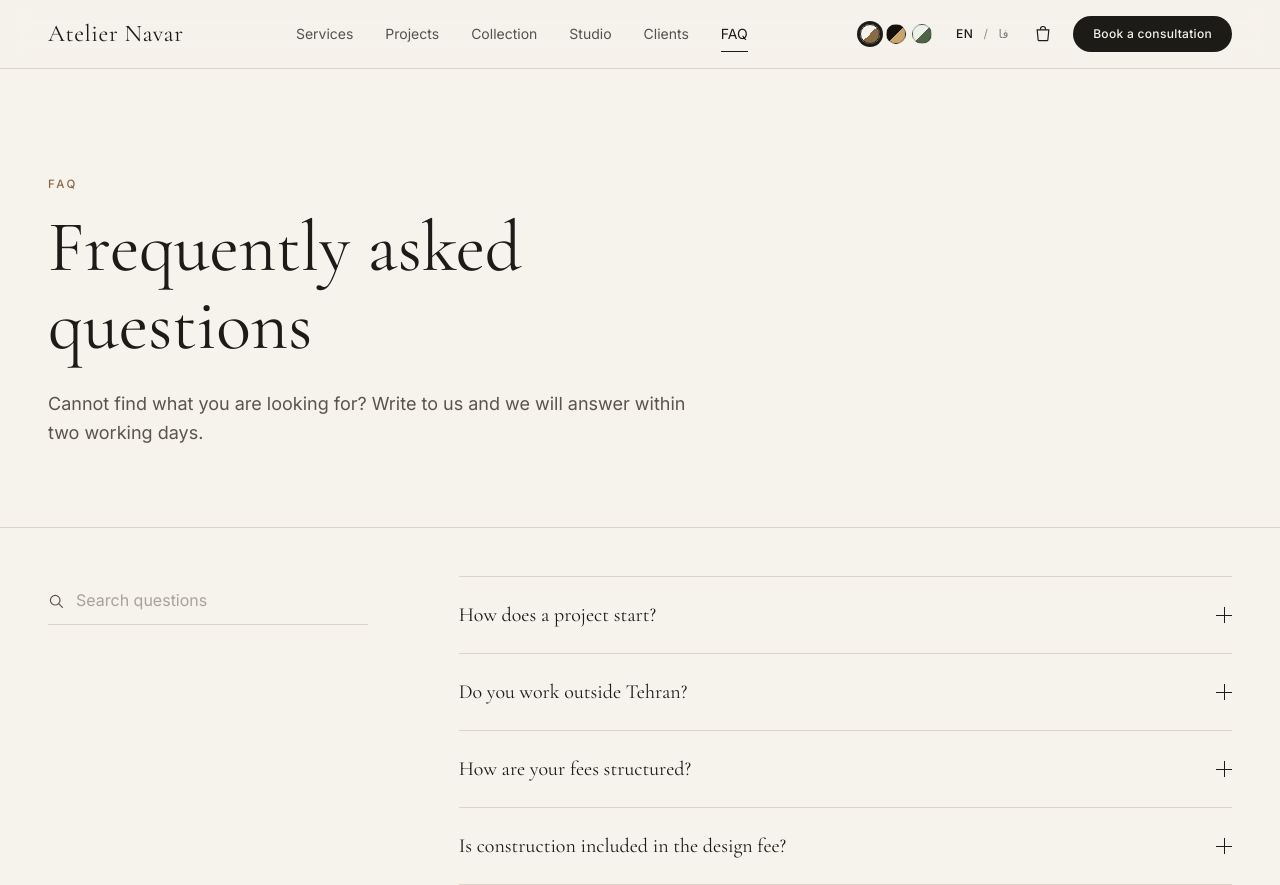
Test: public site › opens and closes FAQ items on the FAQ page, and searches them
Click the button "How does a project start?": click(557, 615) x1=459 y1=577 x2=1232 y2=653
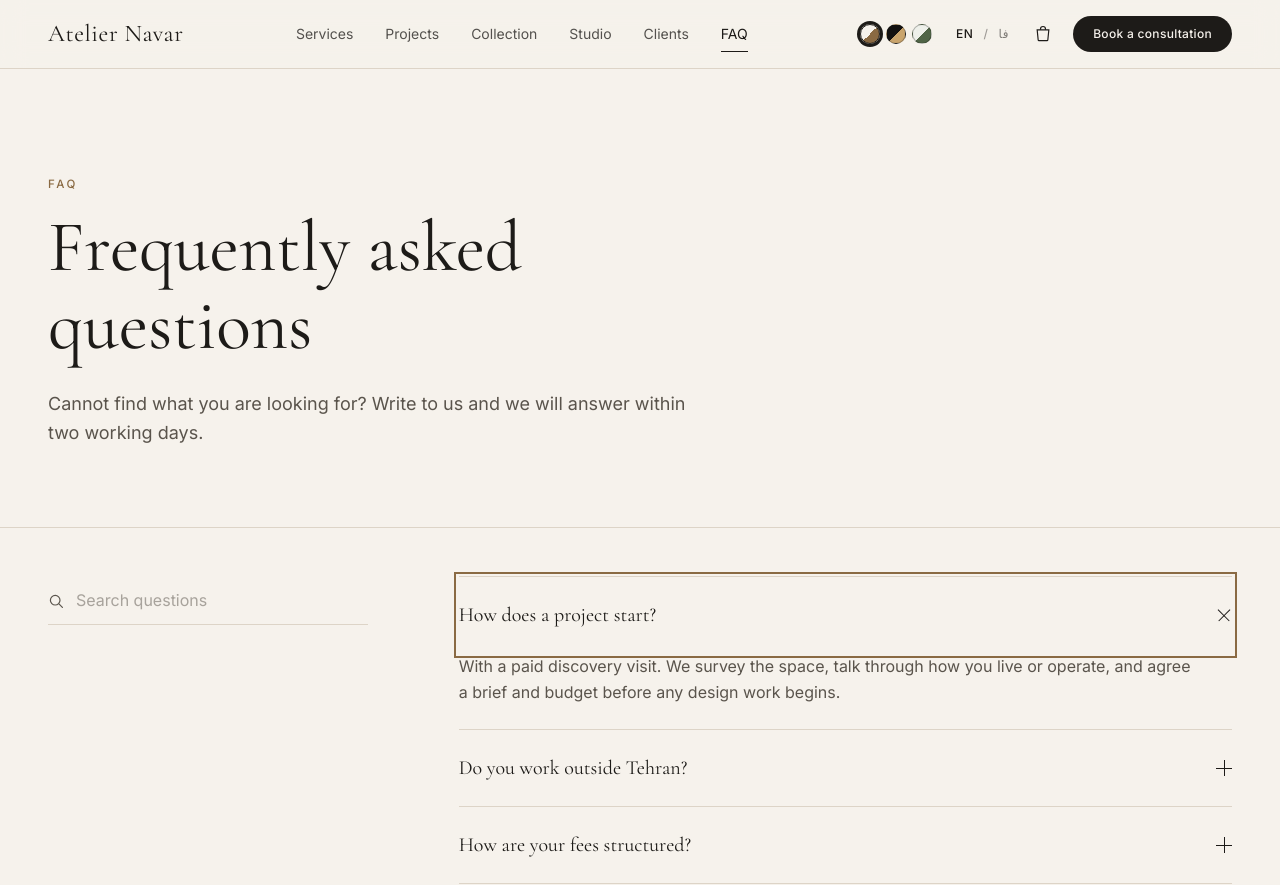
Expected: the button "How does a project start?" is expanded, x1=459 y1=577 x2=1232 y2=653
Expected: the text "paid discovery visit" is shown, x1=459 y1=656 x2=1190 y2=702
In the search field: (208, 601) x1=48 y1=576 x2=368 y2=625, type "zzzz"
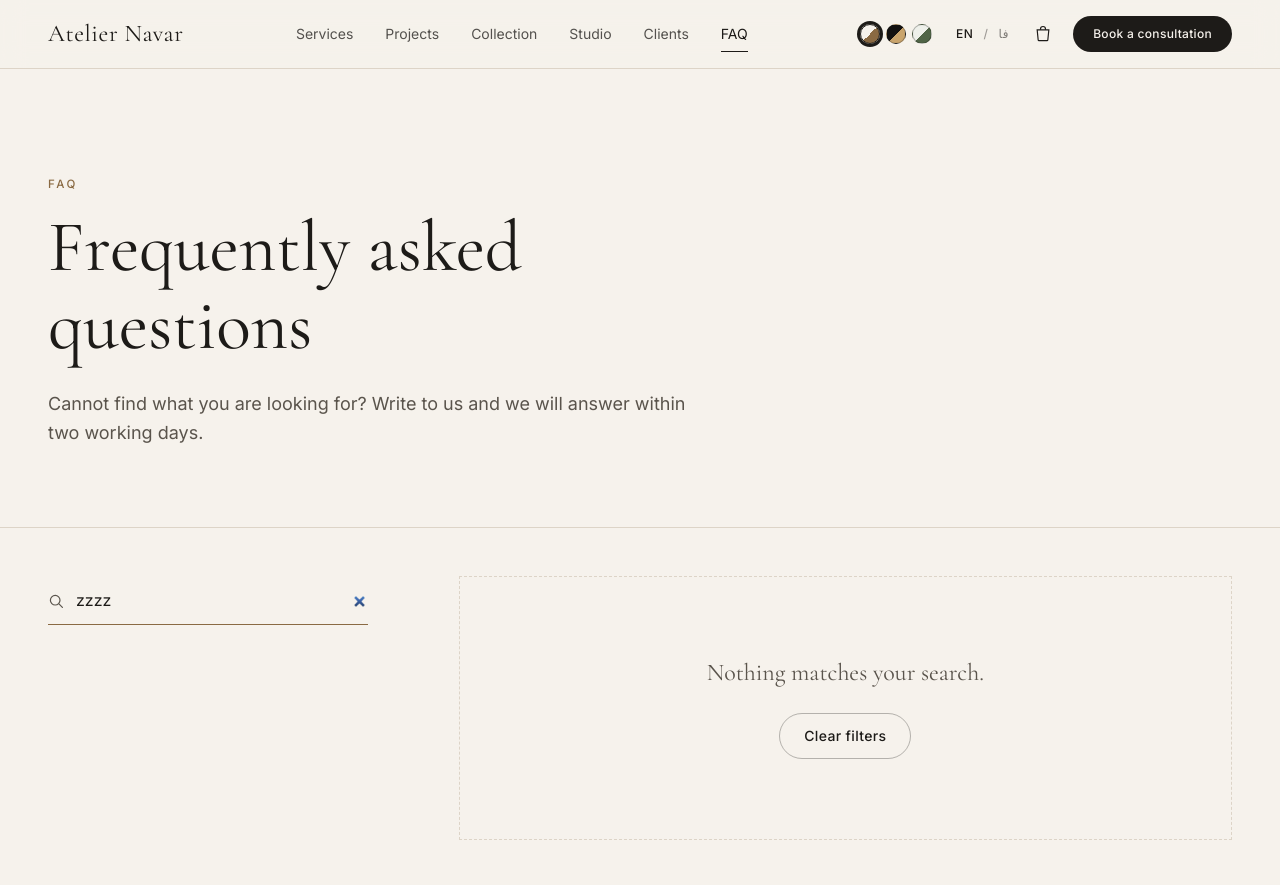
Expected: the text "Nothing matches your search." is shown, x1=707 y1=657 x2=984 y2=689
